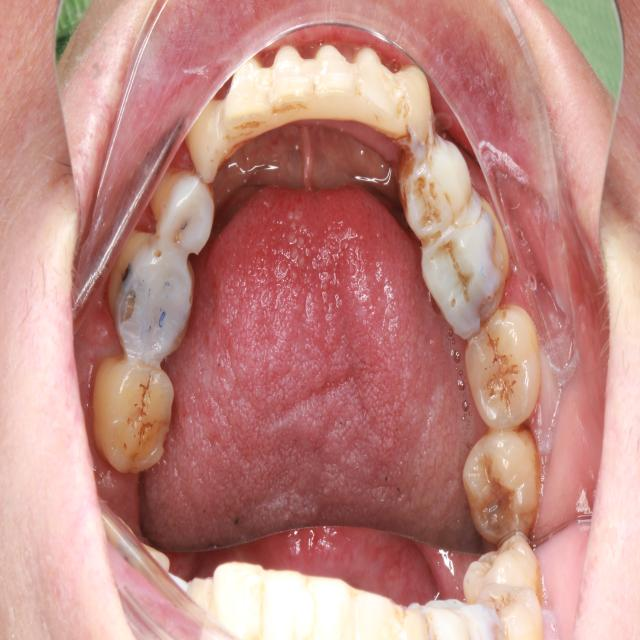tooth: (416, 191, 514, 344), (101, 221, 199, 366), (87, 349, 177, 479), (458, 300, 546, 431), (458, 419, 547, 548), (394, 134, 476, 243), (137, 157, 217, 262), (181, 89, 231, 188), (390, 61, 437, 156), (265, 37, 312, 129), (351, 38, 392, 142), (309, 37, 354, 127), (226, 54, 270, 143)
